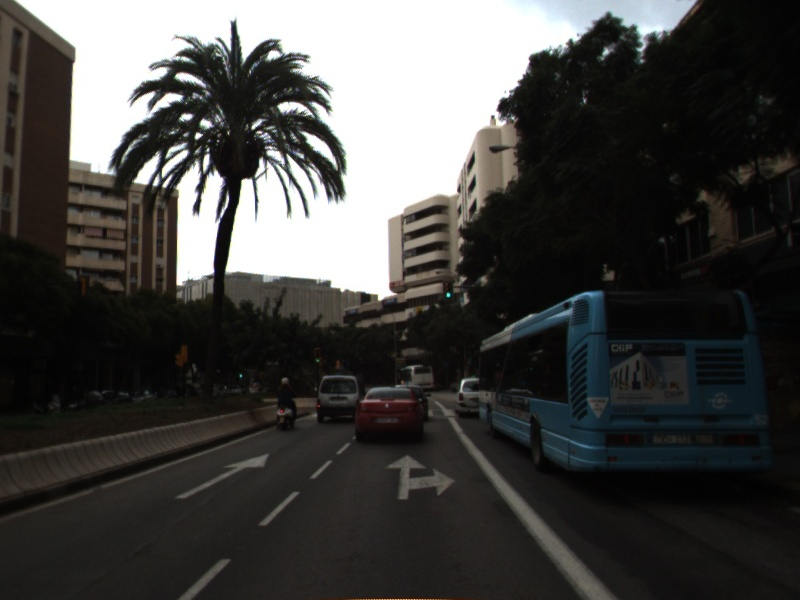STRAIGHT: (172, 451, 271, 501)
STRAIGHT_RIGHT: (383, 453, 458, 502)
